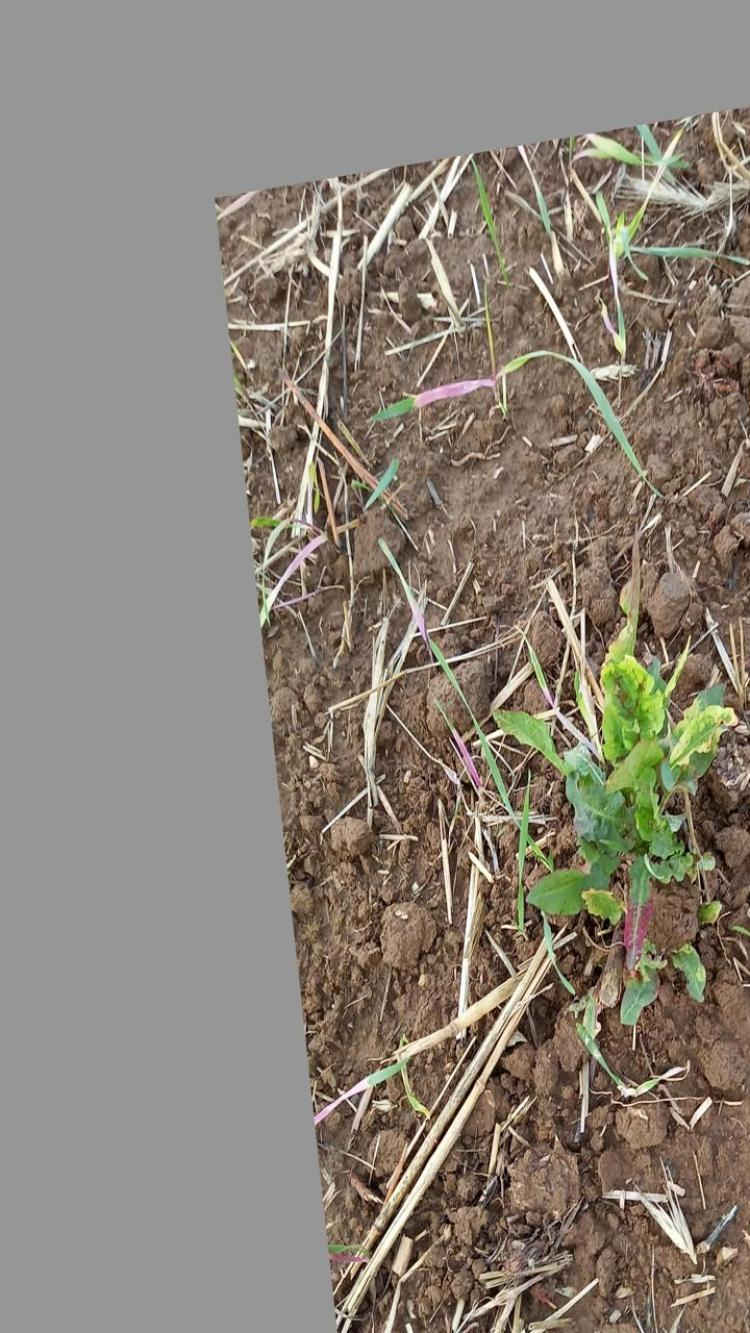zhavel: (494, 579, 738, 1025)
